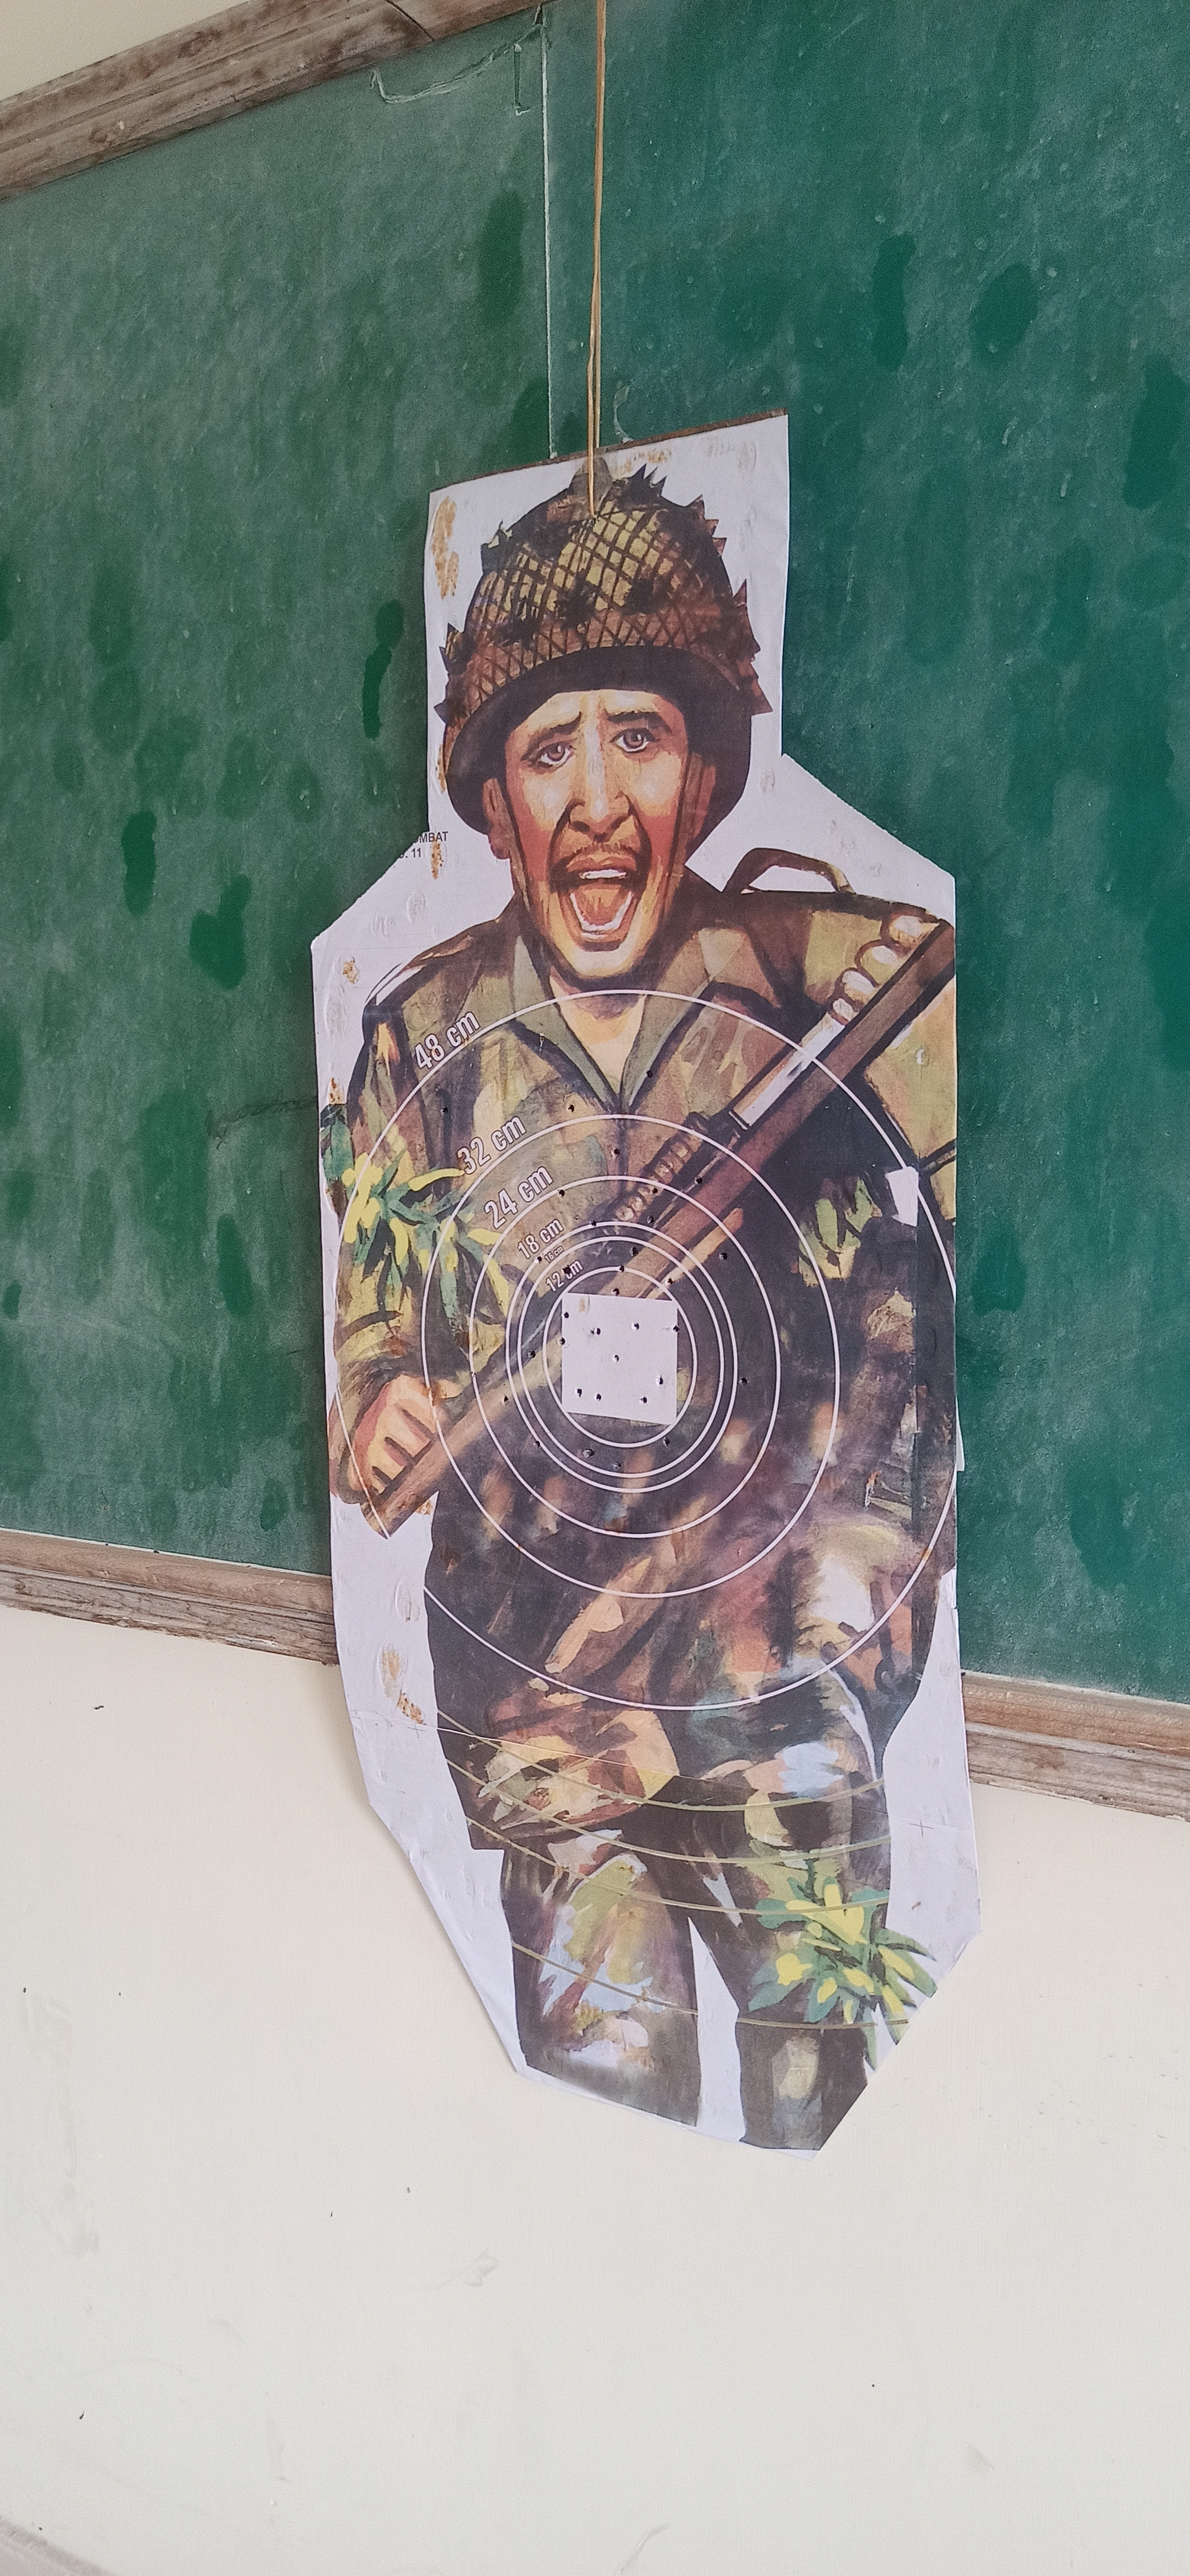bullet hit: (713, 1249, 731, 1265), (690, 1175, 707, 1189), (564, 1101, 579, 1117), (582, 1446, 597, 1462), (639, 1068, 657, 1081), (738, 1373, 753, 1388), (659, 1434, 672, 1451), (628, 1242, 641, 1258), (643, 1214, 657, 1227), (611, 1143, 625, 1158), (653, 1375, 667, 1388), (611, 1350, 625, 1365), (610, 1286, 625, 1299), (588, 1217, 602, 1232), (649, 1186, 662, 1199), (531, 1439, 544, 1452), (439, 1104, 452, 1117), (615, 1262, 628, 1275), (556, 1188, 570, 1199), (524, 1349, 539, 1360), (662, 1277, 677, 1288), (562, 1265, 574, 1280), (639, 1391, 649, 1408), (611, 1460, 625, 1472), (574, 1385, 585, 1398), (593, 1324, 602, 1341), (631, 1321, 643, 1332), (536, 1253, 546, 1267), (559, 1336, 567, 1350), (593, 1391, 603, 1403), (672, 1322, 680, 1336), (501, 1393, 510, 1406), (560, 1309, 570, 1319)
white box: (557, 1291, 680, 1429)
